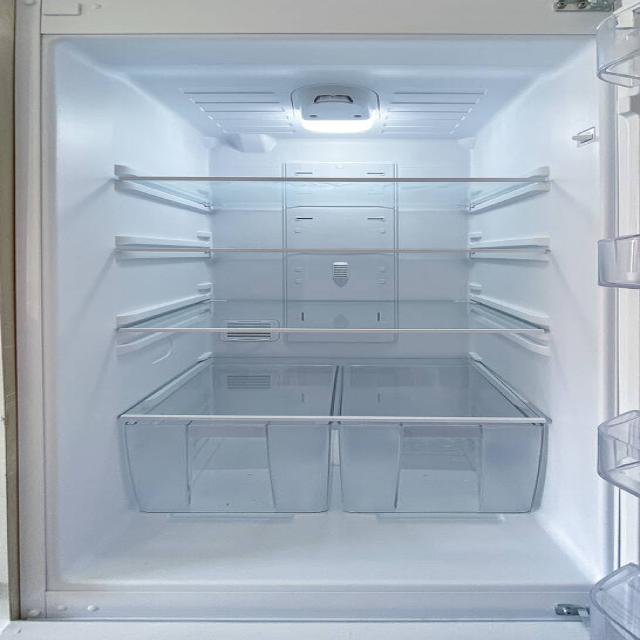fridge-space: (137, 353, 529, 416), (118, 280, 535, 328), (342, 427, 534, 511), (124, 141, 547, 178), (133, 429, 323, 511), (126, 212, 532, 247)
